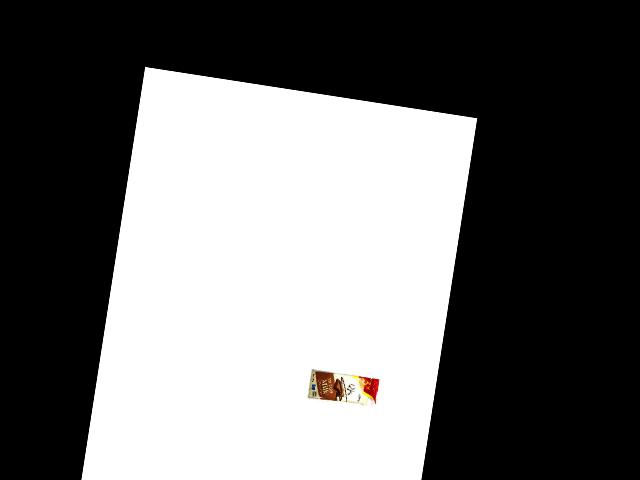chocolate: (308, 366, 381, 409)
